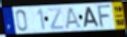0: (15, 9, 29, 32)
1: (36, 8, 46, 31)
A: (64, 6, 83, 29), (83, 7, 101, 29)
F: (97, 4, 113, 29)
Z: (47, 7, 65, 31)
